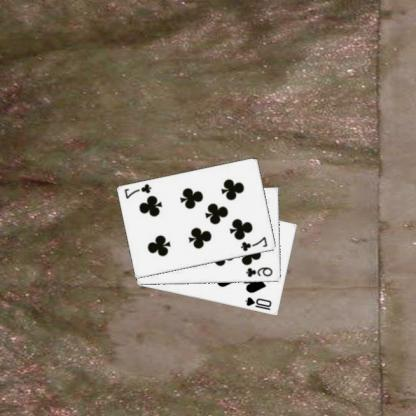10S: (244, 294, 275, 312)
7C: (240, 234, 271, 253), (124, 182, 154, 200)
9C: (245, 264, 276, 278)
